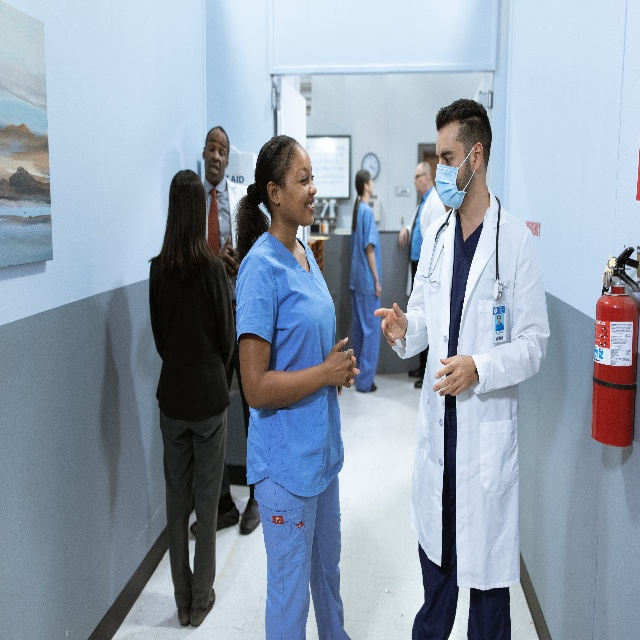Gafas: (415, 172, 426, 179)
Mascara: (433, 146, 476, 209)
Sin_guantes: (432, 353, 478, 398), (324, 336, 357, 389), (374, 301, 409, 347), (336, 348, 360, 396), (216, 233, 237, 278), (221, 243, 240, 278), (398, 227, 408, 250), (374, 279, 382, 298)
